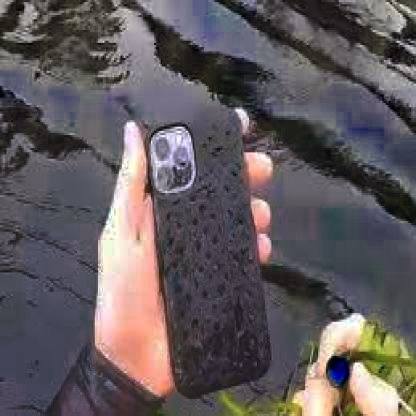cellphone: (145, 109, 274, 399)
